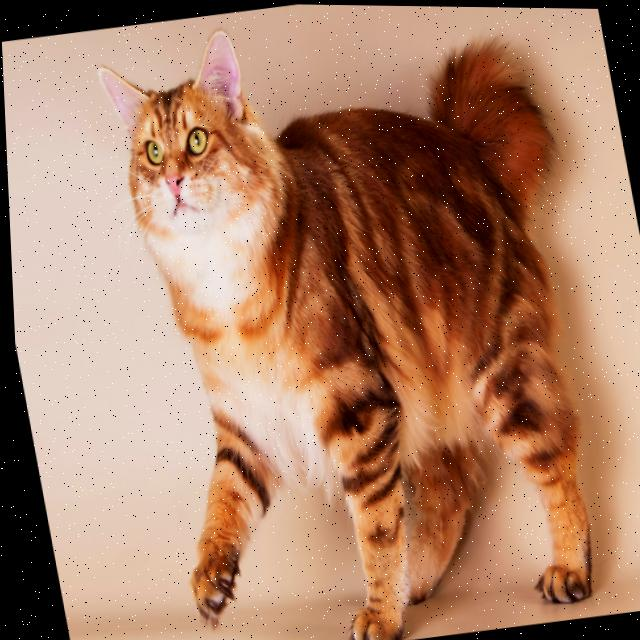American Bobtail: (85, 1, 638, 640)
